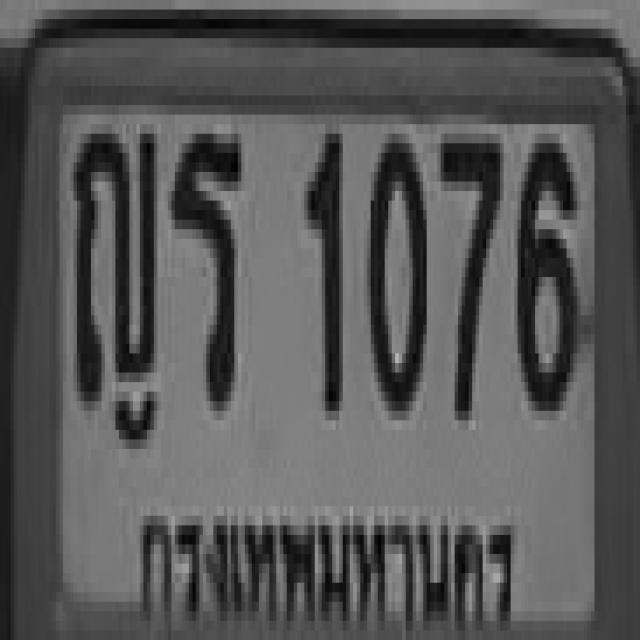0: (364, 124, 423, 401)
1: (304, 124, 339, 401)
22YorYing: (72, 115, 152, 401)
44RorRuea: (168, 124, 241, 401)
6: (514, 134, 574, 401)
7: (439, 124, 498, 411)
Bangkok: (126, 478, 519, 640)
